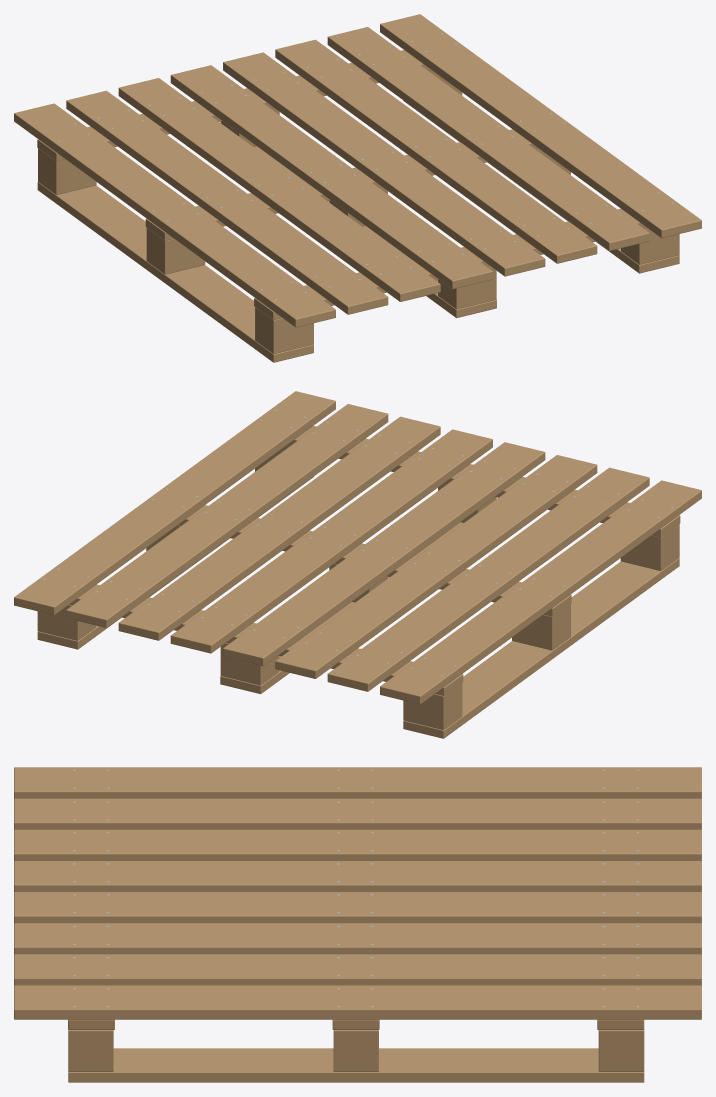
The model's file is pallet_block_a04.glb.
The picture shows the model from 3 angles, top to bottom: view 1: azimuth 30°, elevation 25°; view 2: azimuth 150°, elevation 25°; view 3: azimuth 270°, elevation 25°; orthographic projection. The views are drawn at different scales.
Size of the model in its own units: 1 by 0.1411 by 1.2.
